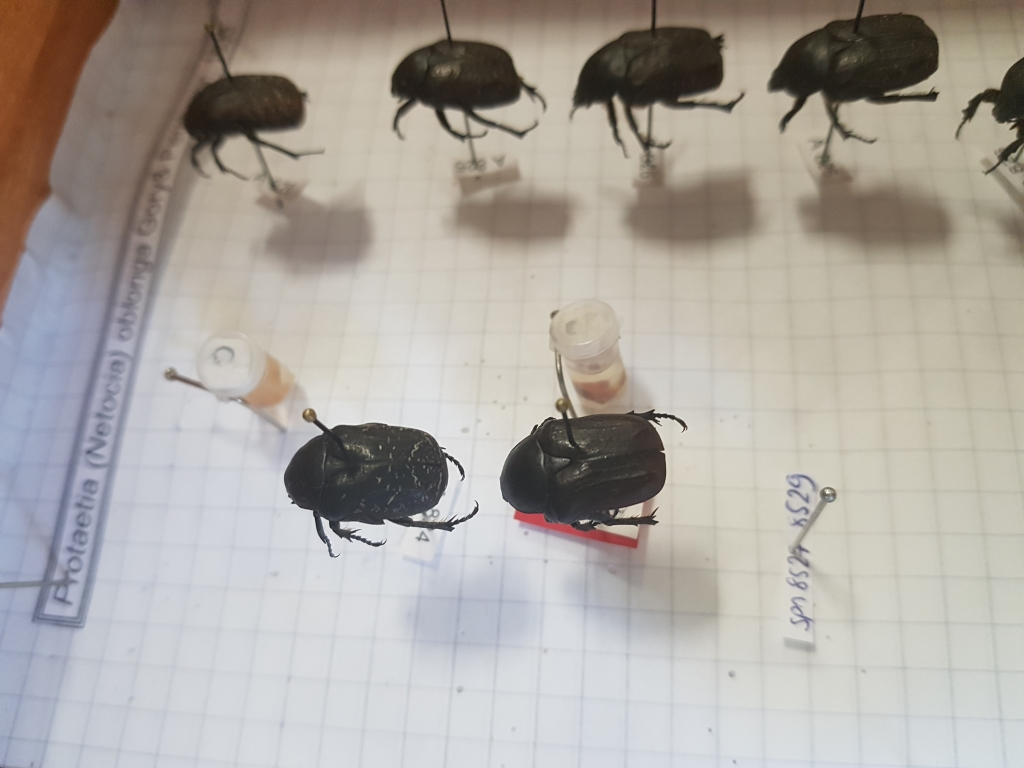Protaetia_oblonga: (284, 413, 485, 563), (499, 403, 709, 545)
